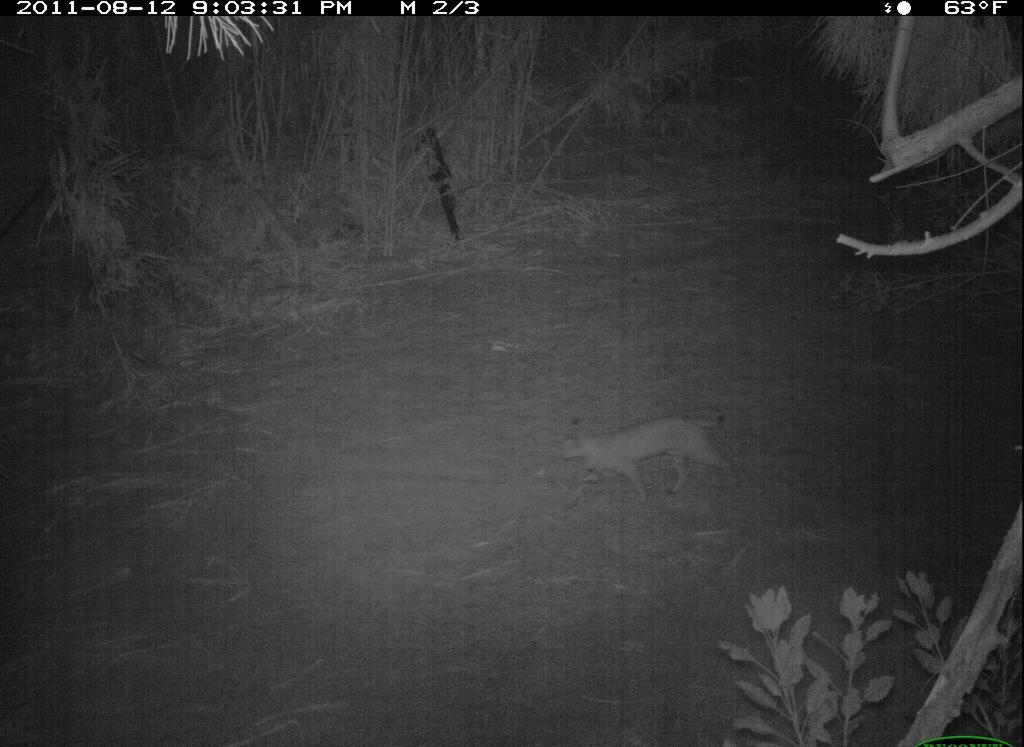bobcat: (556, 402, 743, 520)
